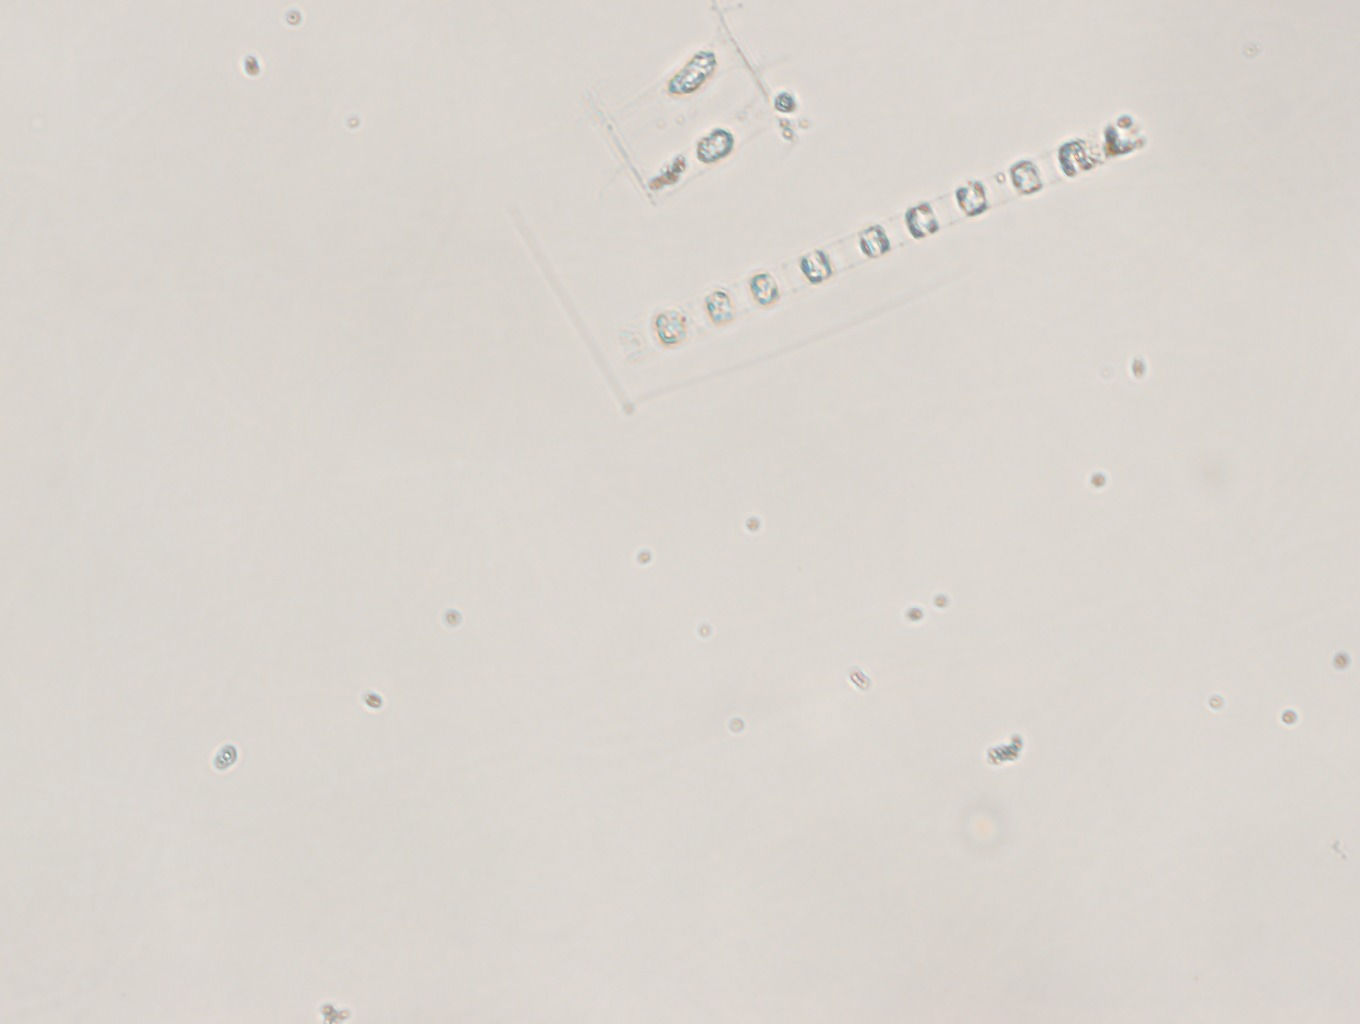chaetoceros: (571, 8, 808, 210)
skeletonema: (609, 108, 1149, 360)
